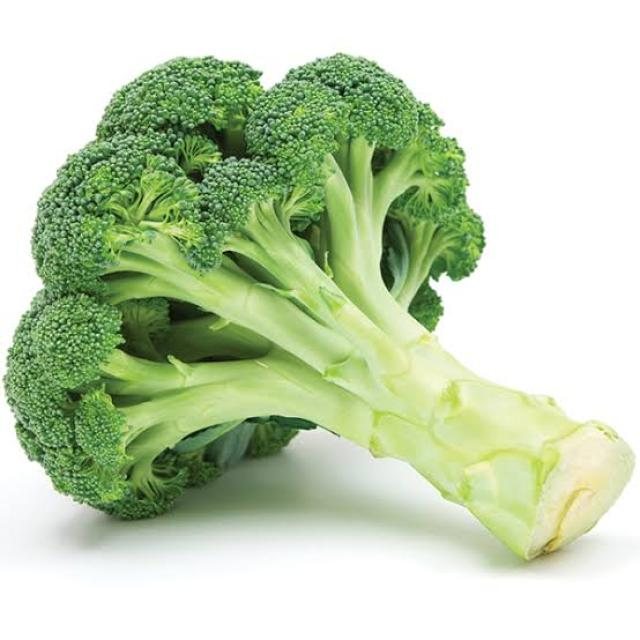food waste: (8, 38, 640, 605)
